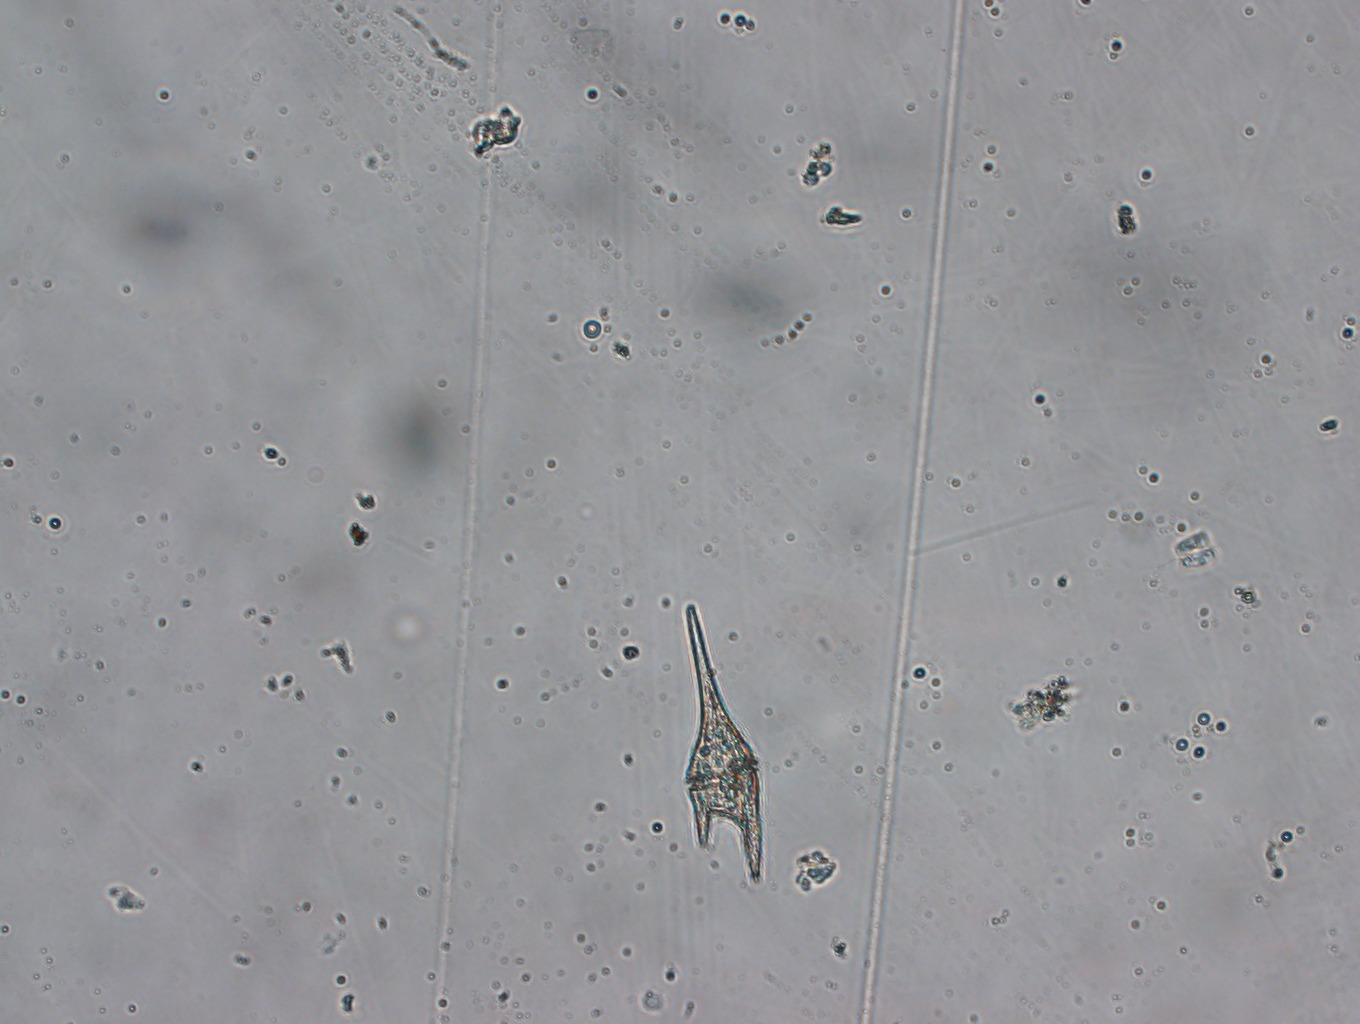ceratium furca: (686, 599, 764, 890)
